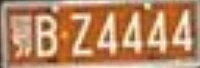B: (35, 15, 57, 57)
